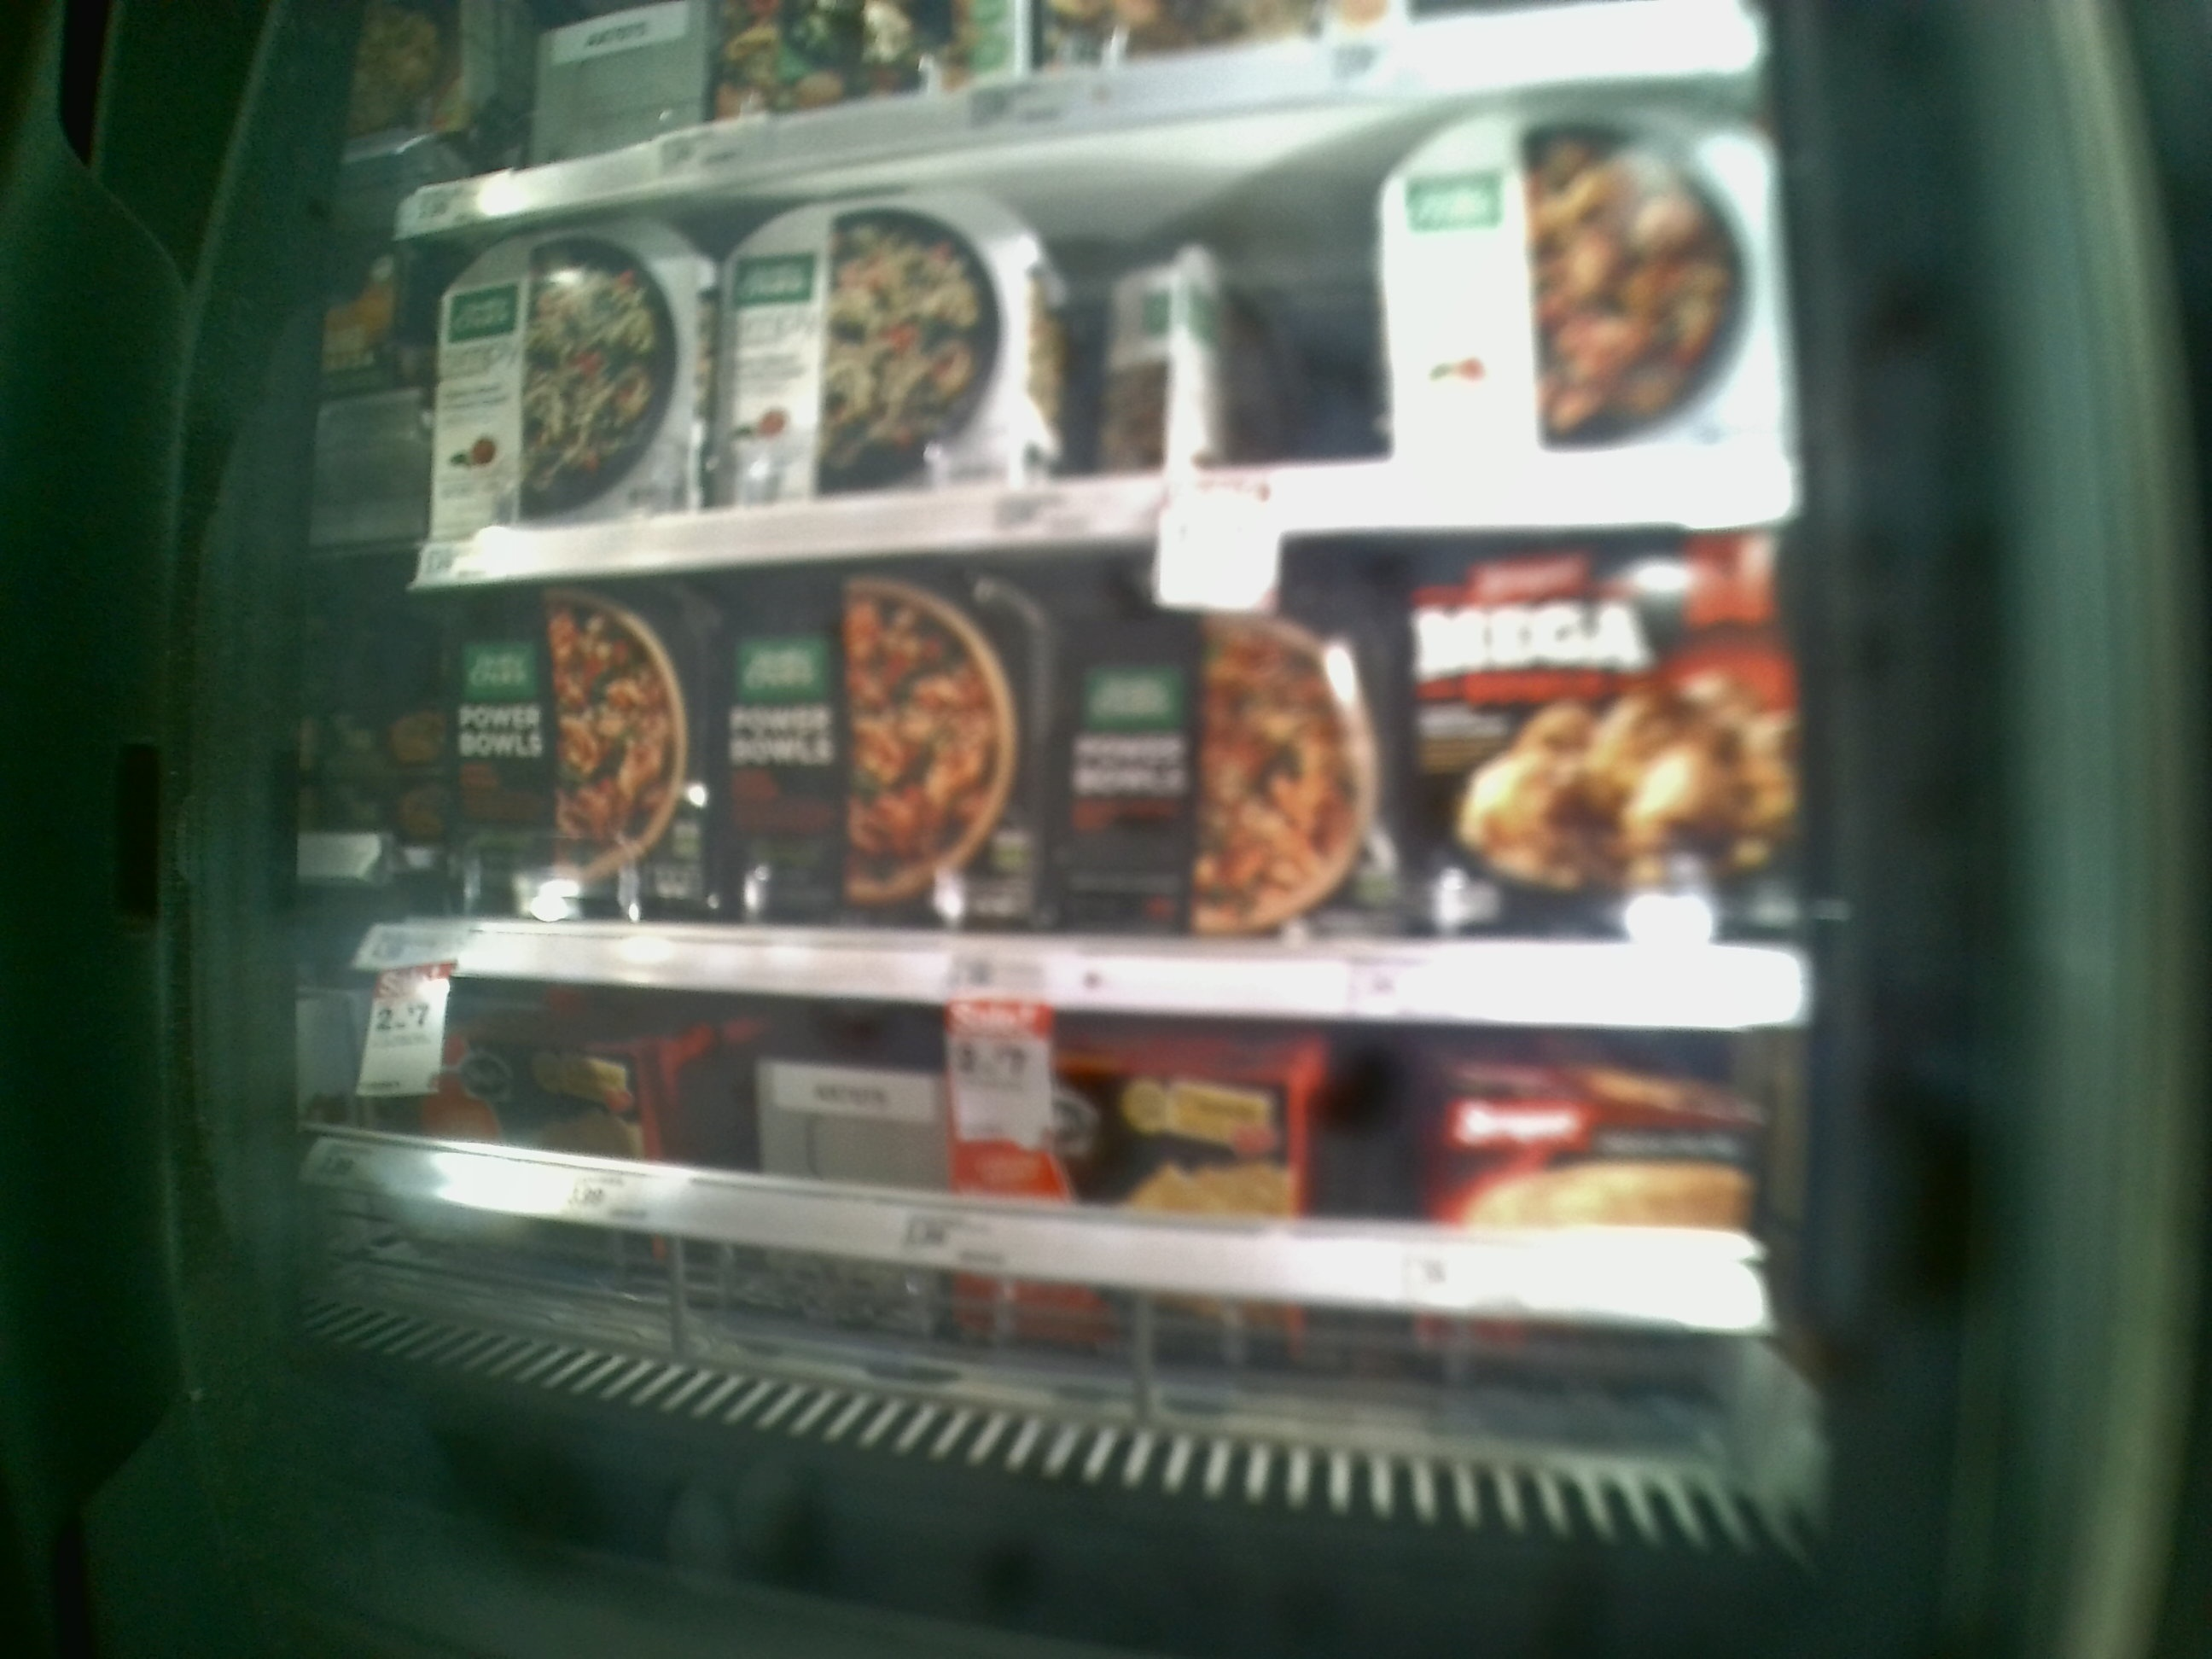shelf: (399, 516, 1811, 995)
